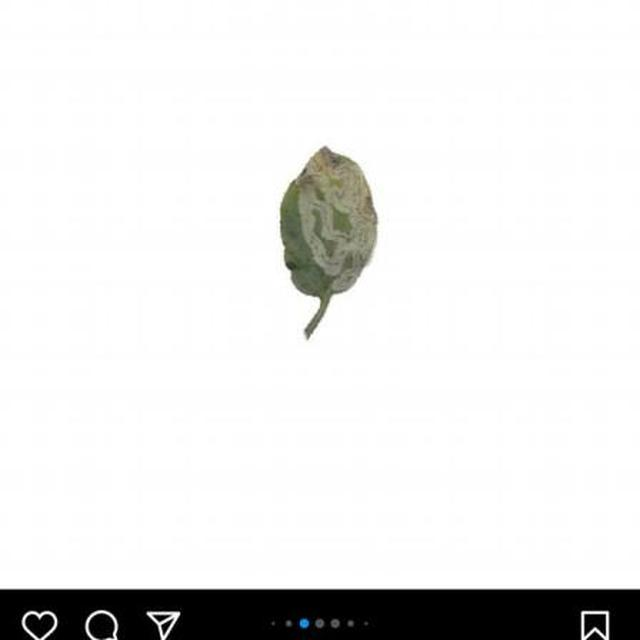Leaf Miner: (403, 208, 544, 429)
